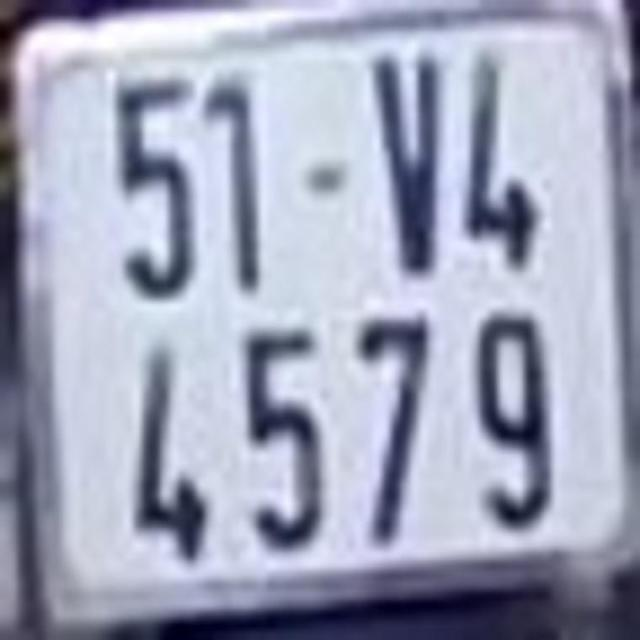1: (204, 72, 273, 294)
4: (128, 338, 212, 568), (462, 47, 542, 276)
5: (110, 72, 201, 301), (241, 322, 328, 553)
7: (354, 310, 431, 545)
9: (474, 309, 554, 529)
V: (368, 46, 449, 280)
